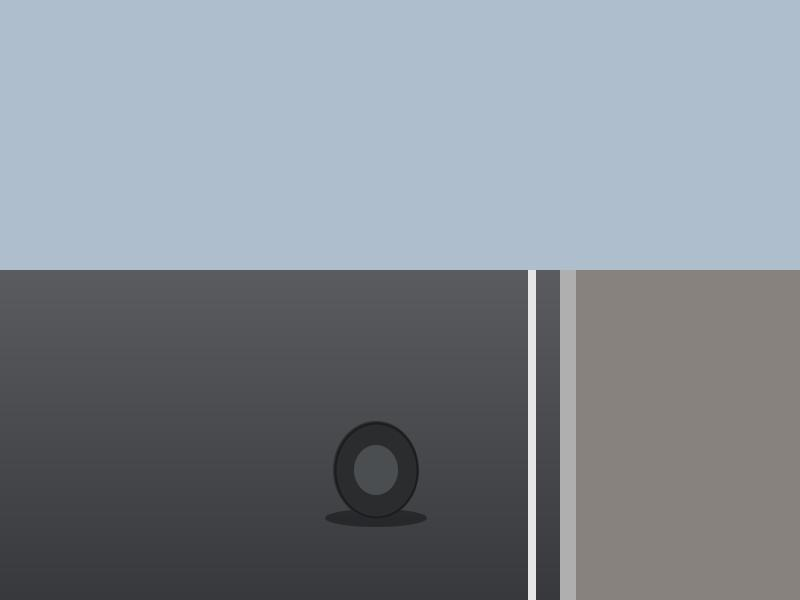ROAD_OBSTACLE: (333, 421, 419, 519)
